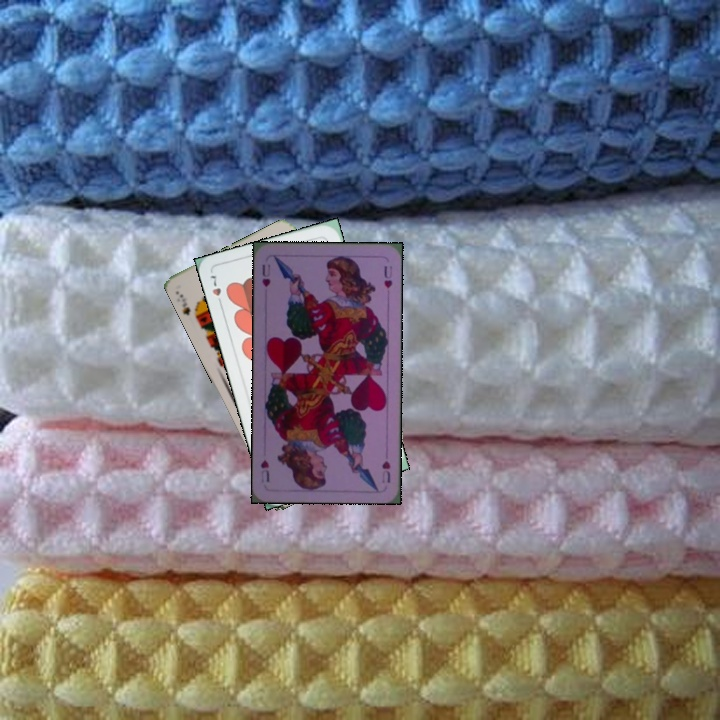H7: (207, 271, 225, 309)
HU: (258, 260, 273, 289), (378, 457, 393, 486)
S9: (175, 290, 203, 323)
